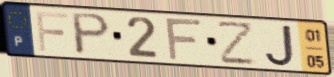2: (124, 15, 161, 61)
F: (163, 17, 205, 62), (34, 10, 71, 54)
J: (263, 23, 297, 68)
P: (70, 11, 113, 57)
Z: (215, 21, 258, 67)
